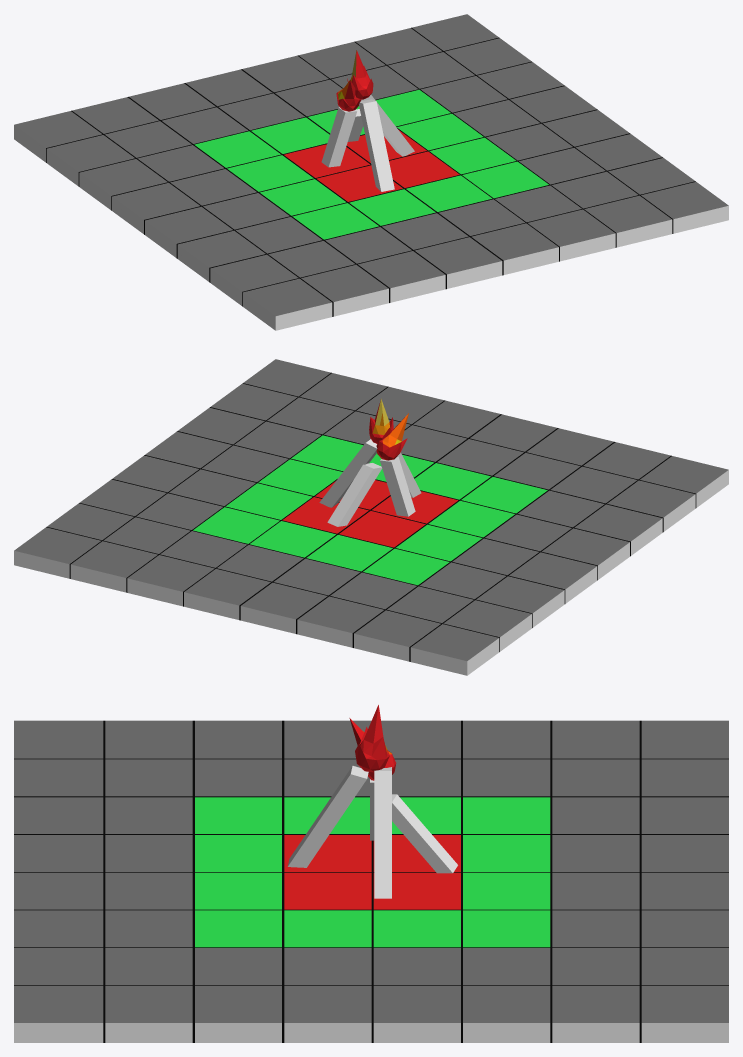
Rendered from GameMapWithLine.fbx.
3 views of the same model, one above another, from view 1: azimuth 30°, elevation 25°; view 2: azimuth 150°, elevation 25°; view 3: azimuth 270°, elevation 25° (orthographic). The views are drawn at different scales.
Visible parts, largest first — view 1: Cube, Cube.001, Icosphere.002; view 2: Cube, Cube.001, Icosphere.001, Icosphere.002; view 3: Cube, Cube.001, Icosphere.002.
Part boxes in pixels (x1,y1,x2,y2): Cube: (14,14,728,330); Cube.001: (321,95,414,191); Icosphere.002: (347,50,373,99); Cube: (14,359,728,675); Cube.001: (319,439,421,526); Icosphere.001: (376,413,408,460); Icosphere.002: (369,398,393,443); Cube: (14,720,728,1042); Cube.001: (287,765,457,898); Icosphere.002: (355,705,389,772).
Bounding box in the file's own units: 2079 × 576 × 2079.
